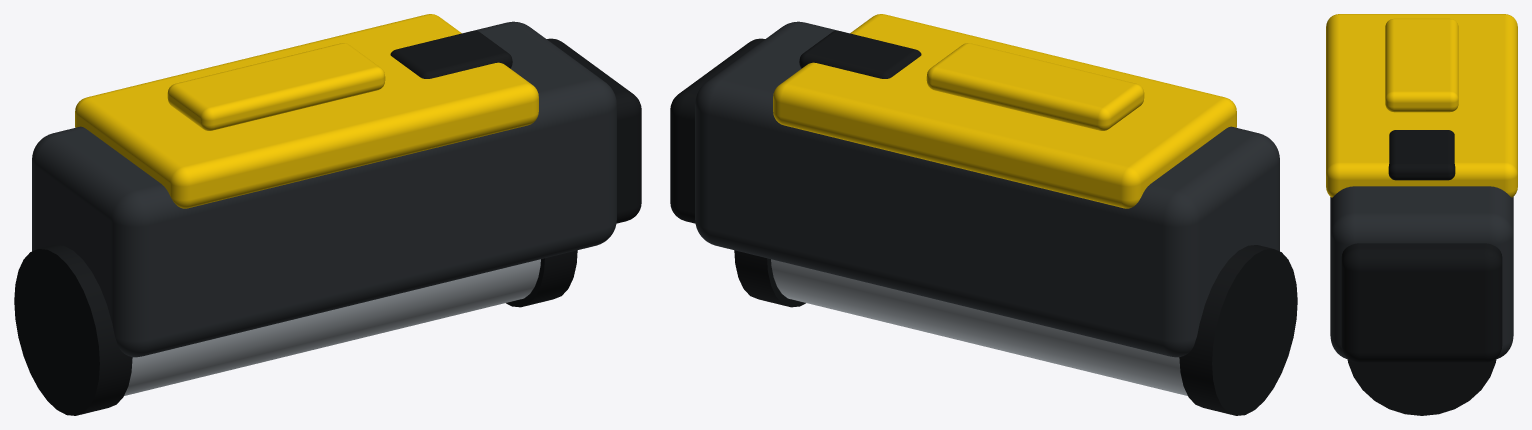
Rendered from toner-yellow.glb.
3 renders of one model, left to right at view 1: azimuth 30°, elevation 25°; view 2: azimuth 150°, elevation 25°; view 3: azimuth 270°, elevation 25°, orthographic. The views are drawn at different scales.
Visible parts, largest first — view 1: yellow toner cartridge; view 2: yellow toner cartridge; view 3: yellow toner cartridge.
Part boxes in pixels (x1,y1,x2,y2): yellow toner cartridge: [14, 14, 641, 415]; yellow toner cartridge: [670, 14, 1297, 415]; yellow toner cartridge: [1326, 14, 1517, 415].
Size of the model in its own units: 2.5 by 1.23 by 0.86.
